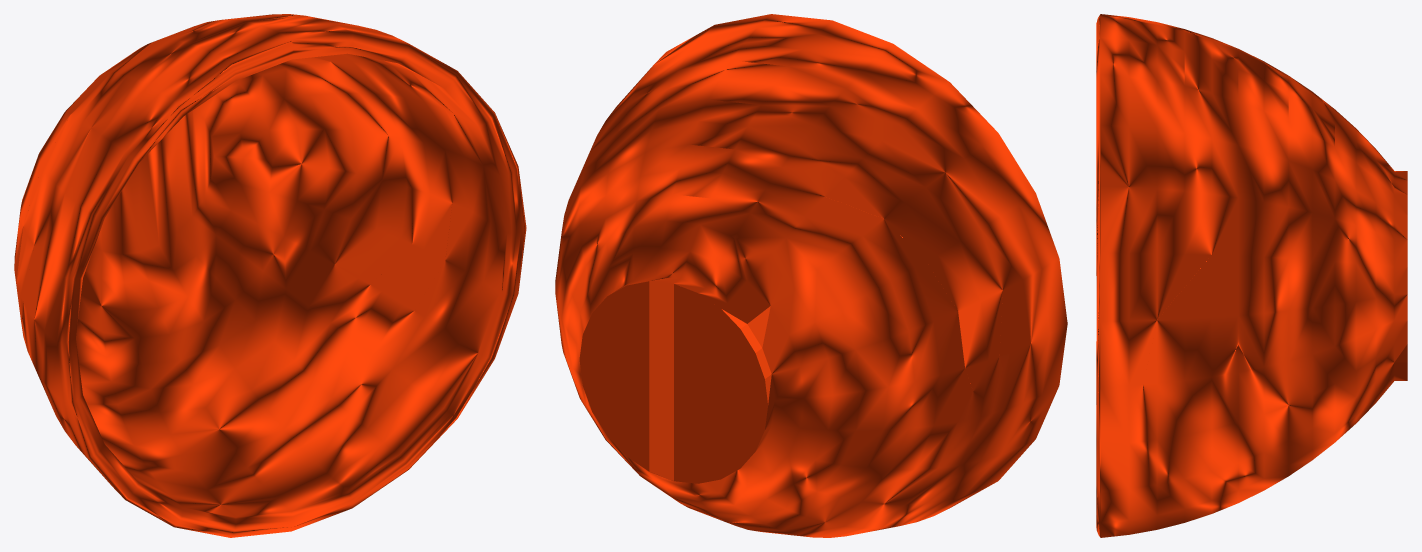
File: model_align.obj
3 views of the same model, side by side, from view 1: azimuth 30°, elevation 25°; view 2: azimuth 150°, elevation 25°; view 3: azimuth 270°, elevation 25° (orthographic). The views are drawn at different scales.
Size of the model in its own units: 0.1576 by 0.1576 by 0.0933.
